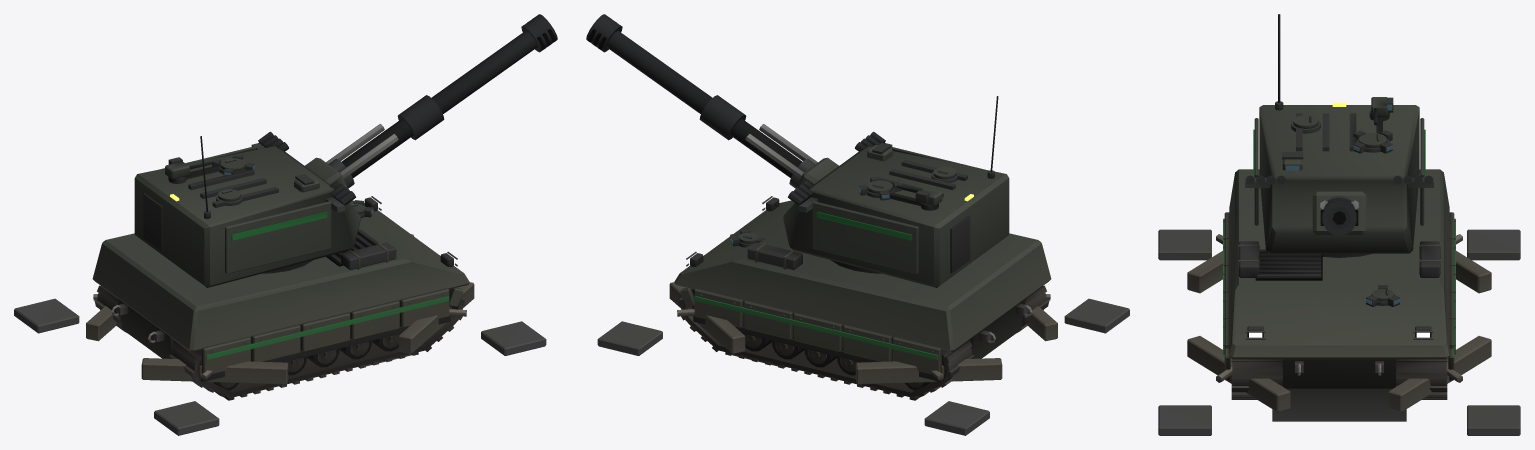
File: u_arty.glb
3 renders of one model, left to right at view 1: azimuth 30°, elevation 25°; view 2: azimuth 150°, elevation 25°; view 3: azimuth 270°, elevation 25°, orthographic. The views are drawn at different scales.
Visible parts, largest first — view 1: Arty_turret, Arty_Walls, Arty_spade, Arty_Details, Arty_Foundation, Arty_Frame; view 2: Arty_turret, Arty_Walls, Arty_spade, Arty_Details, Arty_Foundation, Arty_Frame; view 3: Arty_Walls, Arty_turret, Arty_spade, Arty_Details, Arty_Frame, Arty_Foundation.
Part boxes in pixels (x1,y1,x2,y2): Arty_turret: (134,14,557,287); Arty_Walls: (92,200,469,374); Arty_spade: (14,282,546,435); Arty_Details: (94,196,465,400); Arty_Foundation: (97,289,462,397); Arty_Frame: (199,334,411,387); Arty_turret: (586,14,1009,287); Arty_Walls: (674,200,1051,374); Arty_spade: (597,282,1129,435); Arty_Details: (678,196,1049,400); Arty_Foundation: (681,289,1046,397); Arty_Frame: (732,334,944,387); Arty_Walls: (1224,169,1454,388); Arty_turret: (1245,14,1433,257); Arty_spade: (1158,229,1520,435); Arty_Details: (1223,218,1455,399); Arty_Frame: (1272,388,1406,421); Arty_Foundation: (1232,361,1446,392).
Bounding box in the file's own units: 1.74 × 1.01 × 1.08.
